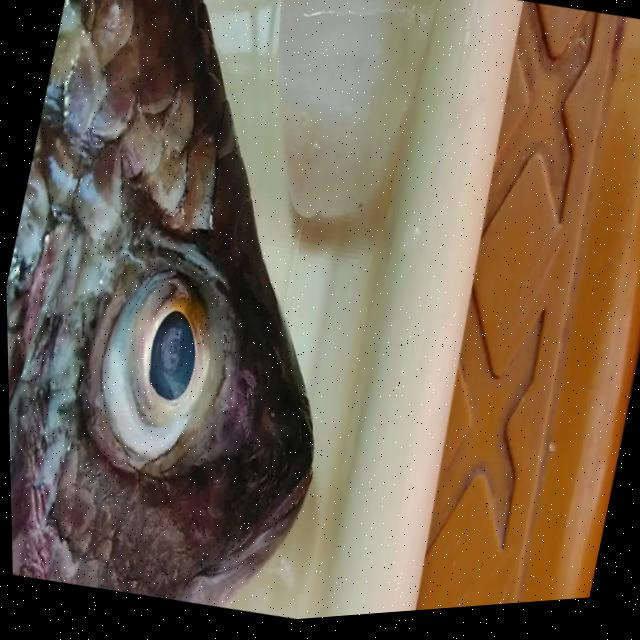Fresh: (65, 235, 241, 485)
